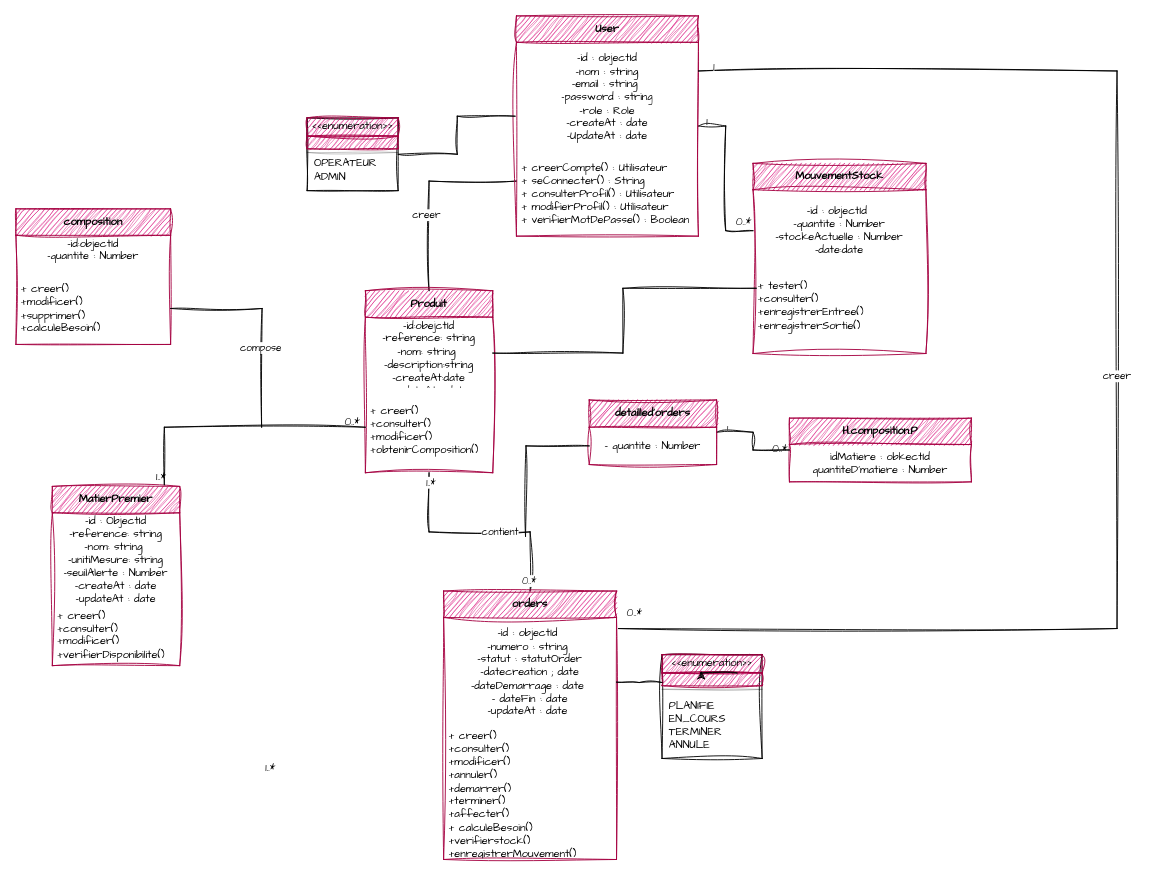
The diagram is 1150 pixels wide and 876 high, and some of its shapes have lost their labels. Here are the shapes that lost their labels. From the top down, the centre of each, then its label:
At (352,142): "Role".
At (711,679): "statutOrder".
